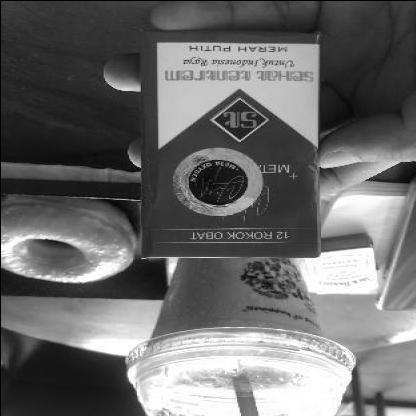objects: (140, 29, 320, 257)
